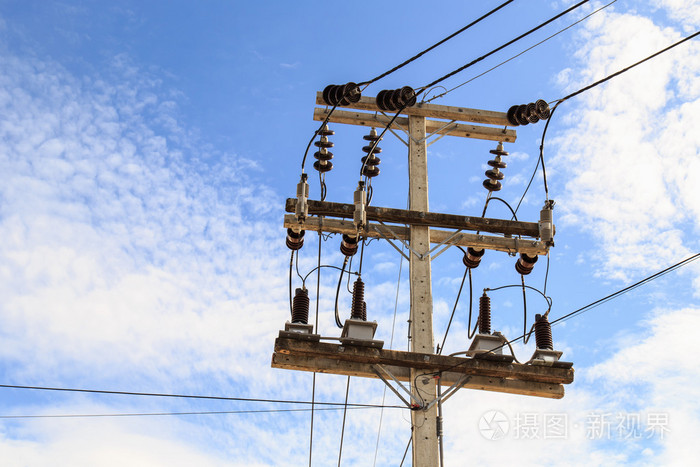insulator: (508, 98, 554, 127), (483, 148, 510, 192), (313, 125, 336, 173), (375, 87, 420, 110), (361, 132, 383, 178), (321, 82, 362, 105)
